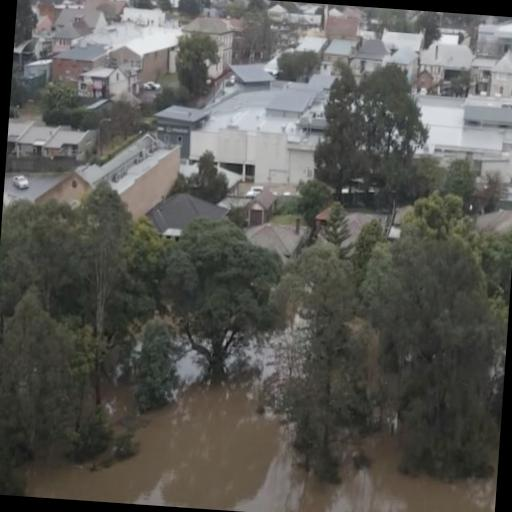flood: (25, 388, 497, 512)
house: (8, 120, 89, 176), (463, 88, 512, 134), (78, 61, 130, 100), (105, 40, 152, 74), (55, 7, 109, 35), (351, 37, 386, 74), (212, 16, 234, 74), (50, 18, 81, 53), (488, 51, 512, 91), (323, 36, 355, 66), (83, 0, 139, 4)
